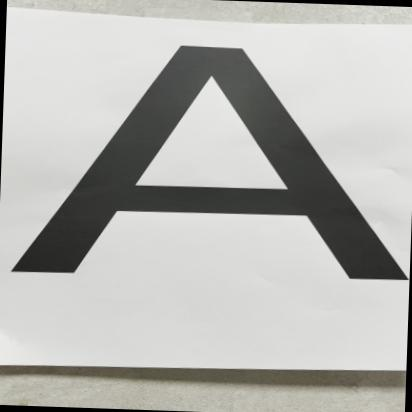seat: (0, 19, 412, 327)
